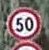limite 50: (7, 5, 41, 40)
